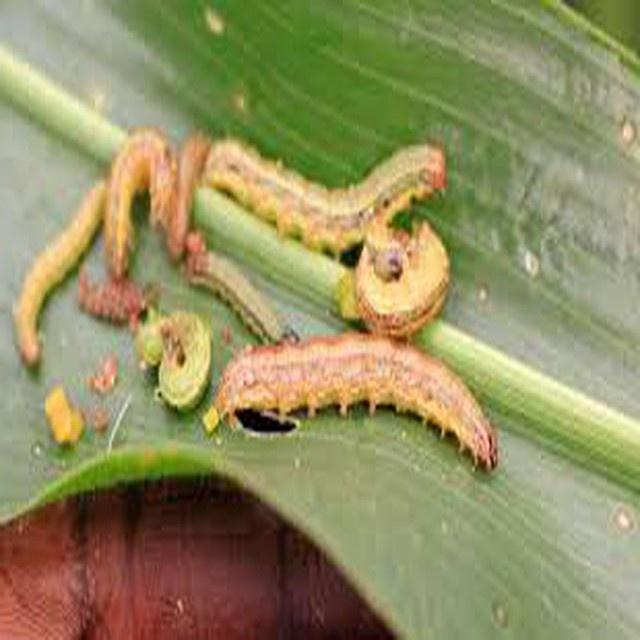gusano_cogollero: (208, 340, 495, 462), (208, 145, 442, 243), (10, 188, 103, 364), (108, 122, 202, 270), (182, 245, 295, 348), (346, 223, 452, 330), (140, 312, 212, 405)
